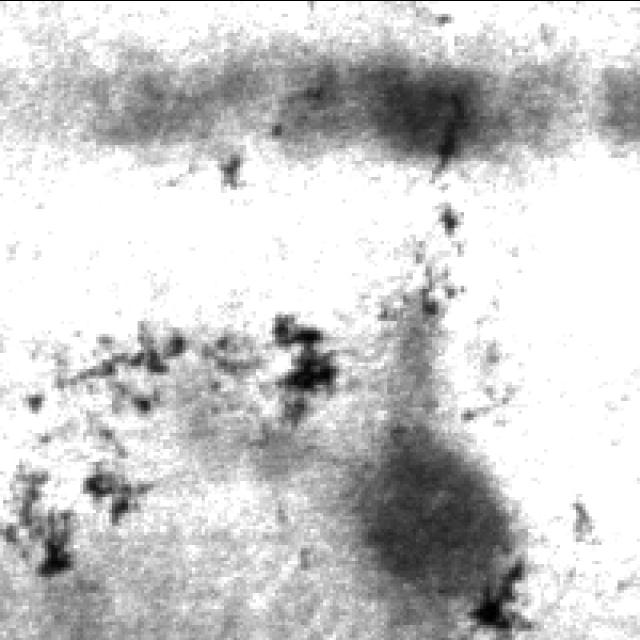patches: (7, 304, 541, 640), (0, 2, 636, 189)
